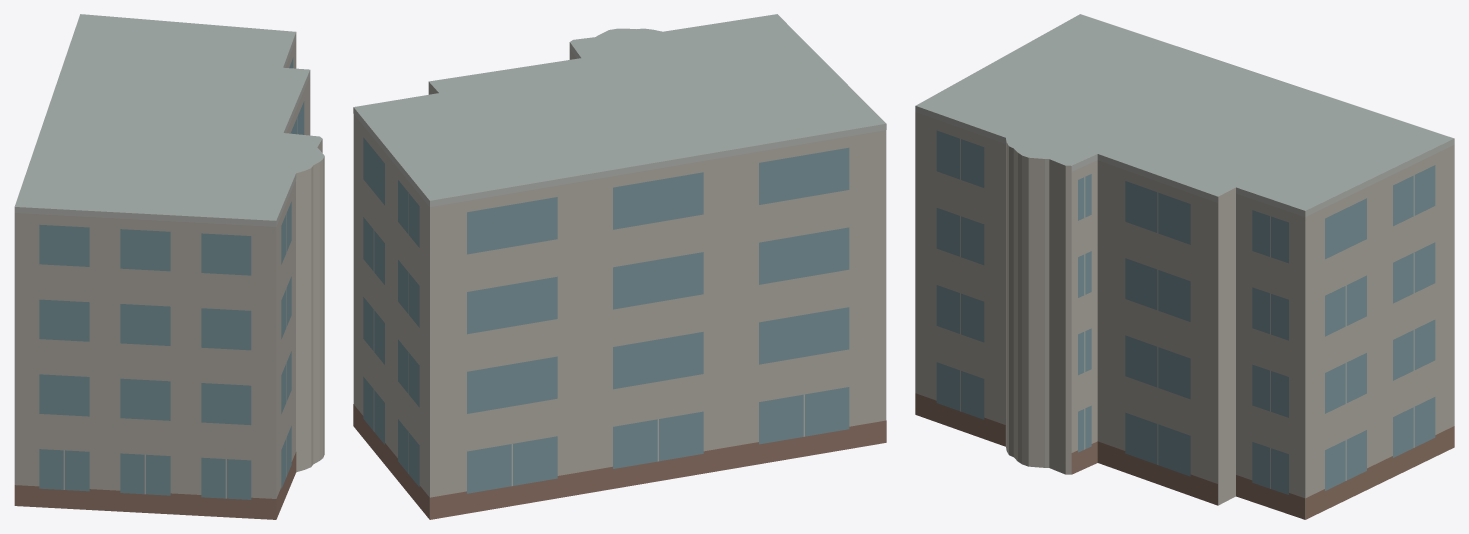
The model's file is survey-upis-32706236.glb.
3 renders of one model, left to right at view 1: azimuth 30°, elevation 25°; view 2: azimuth 150°, elevation 25°; view 3: azimuth 270°, elevation 25°, orthographic. The views are drawn at different scales.
Parts seen in each view (by area): view 1: survey-upis-32706236.tmp; view 2: survey-upis-32706236.tmp; view 3: survey-upis-32706236.tmp.
Part boxes in pixels (left/top/right/bottom): survey-upis-32706236.tmp: left=14, top=14, right=324, bottom=519; survey-upis-32706236.tmp: left=353, top=14, right=886, bottom=519; survey-upis-32706236.tmp: left=915, top=14, right=1454, bottom=519.
Bounding box in the file's own units: 16.69 × 12.2 × 19.3.
